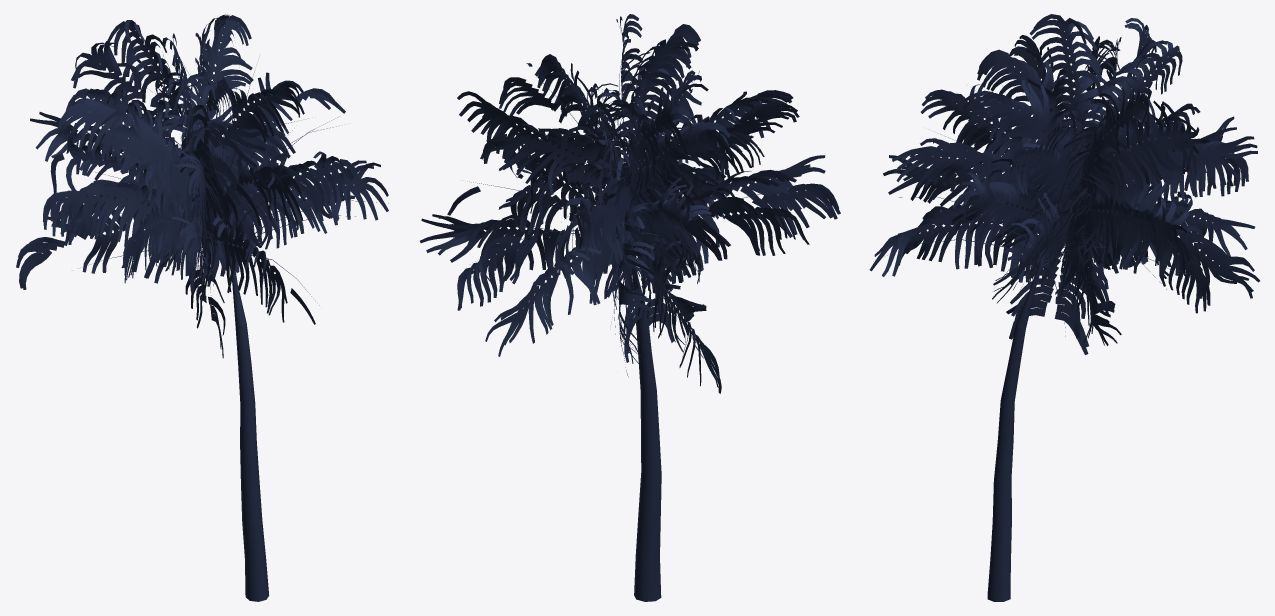
The model's file is palmtree.fbx.
3 renders of one model, left to right at view 1: azimuth 30°, elevation 25°; view 2: azimuth 150°, elevation 25°; view 3: azimuth 270°, elevation 25°, orthographic. The views are drawn at different scales.
Parts seen in each view (by area): view 1: palmYoungLight1Leaf, palmYoungLight1Main; view 2: palmYoungLight1Leaf, palmYoungLight1Main; view 3: palmYoungLight1Leaf, palmYoungLight1Main.
Boxes of the visible parts, bbox=[...] form: palmYoungLight1Leaf: bbox=[16, 14, 388, 358]; palmYoungLight1Main: bbox=[85, 62, 388, 601]; palmYoungLight1Leaf: bbox=[420, 14, 840, 393]; palmYoungLight1Main: bbox=[469, 37, 785, 601]; palmYoungLight1Leaf: bbox=[869, 14, 1259, 354]; palmYoungLight1Main: bbox=[887, 69, 1176, 601].
Size of the model in its own units: 469 by 742 by 473.
